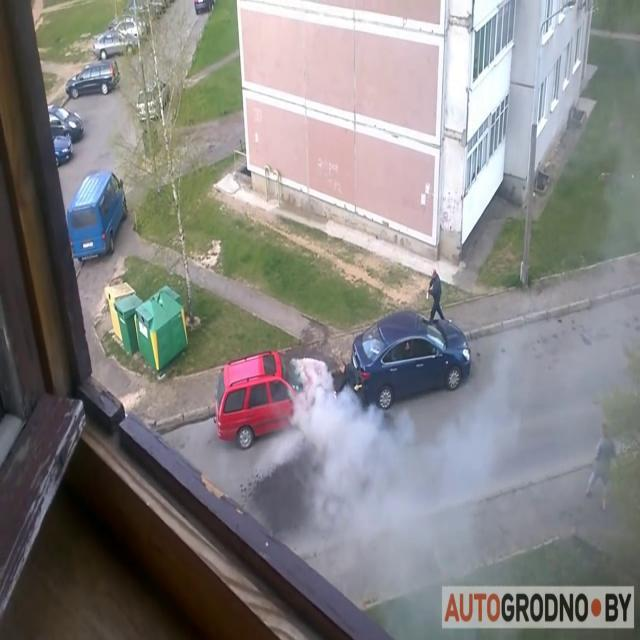Smoke: (284, 340, 634, 630)
